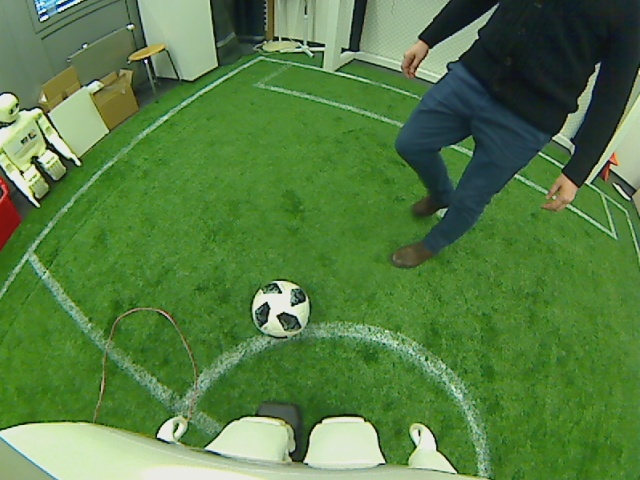ball: (249, 277, 310, 339)
